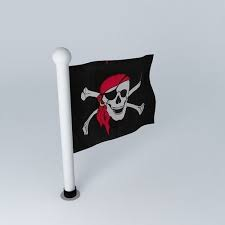Jolly Roger Flag: (61, 55, 169, 153)
